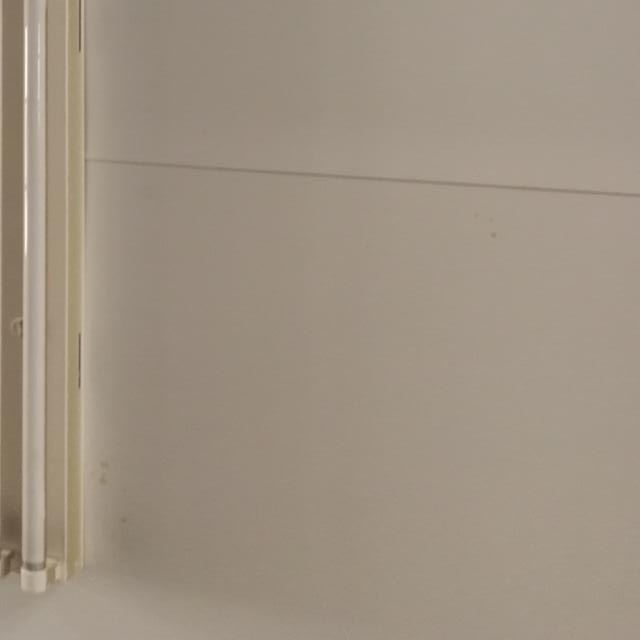fluorescent tube: (0, 0, 135, 605)
